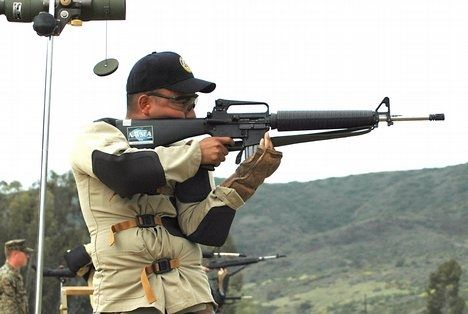Rifle: (120, 95, 447, 166)
